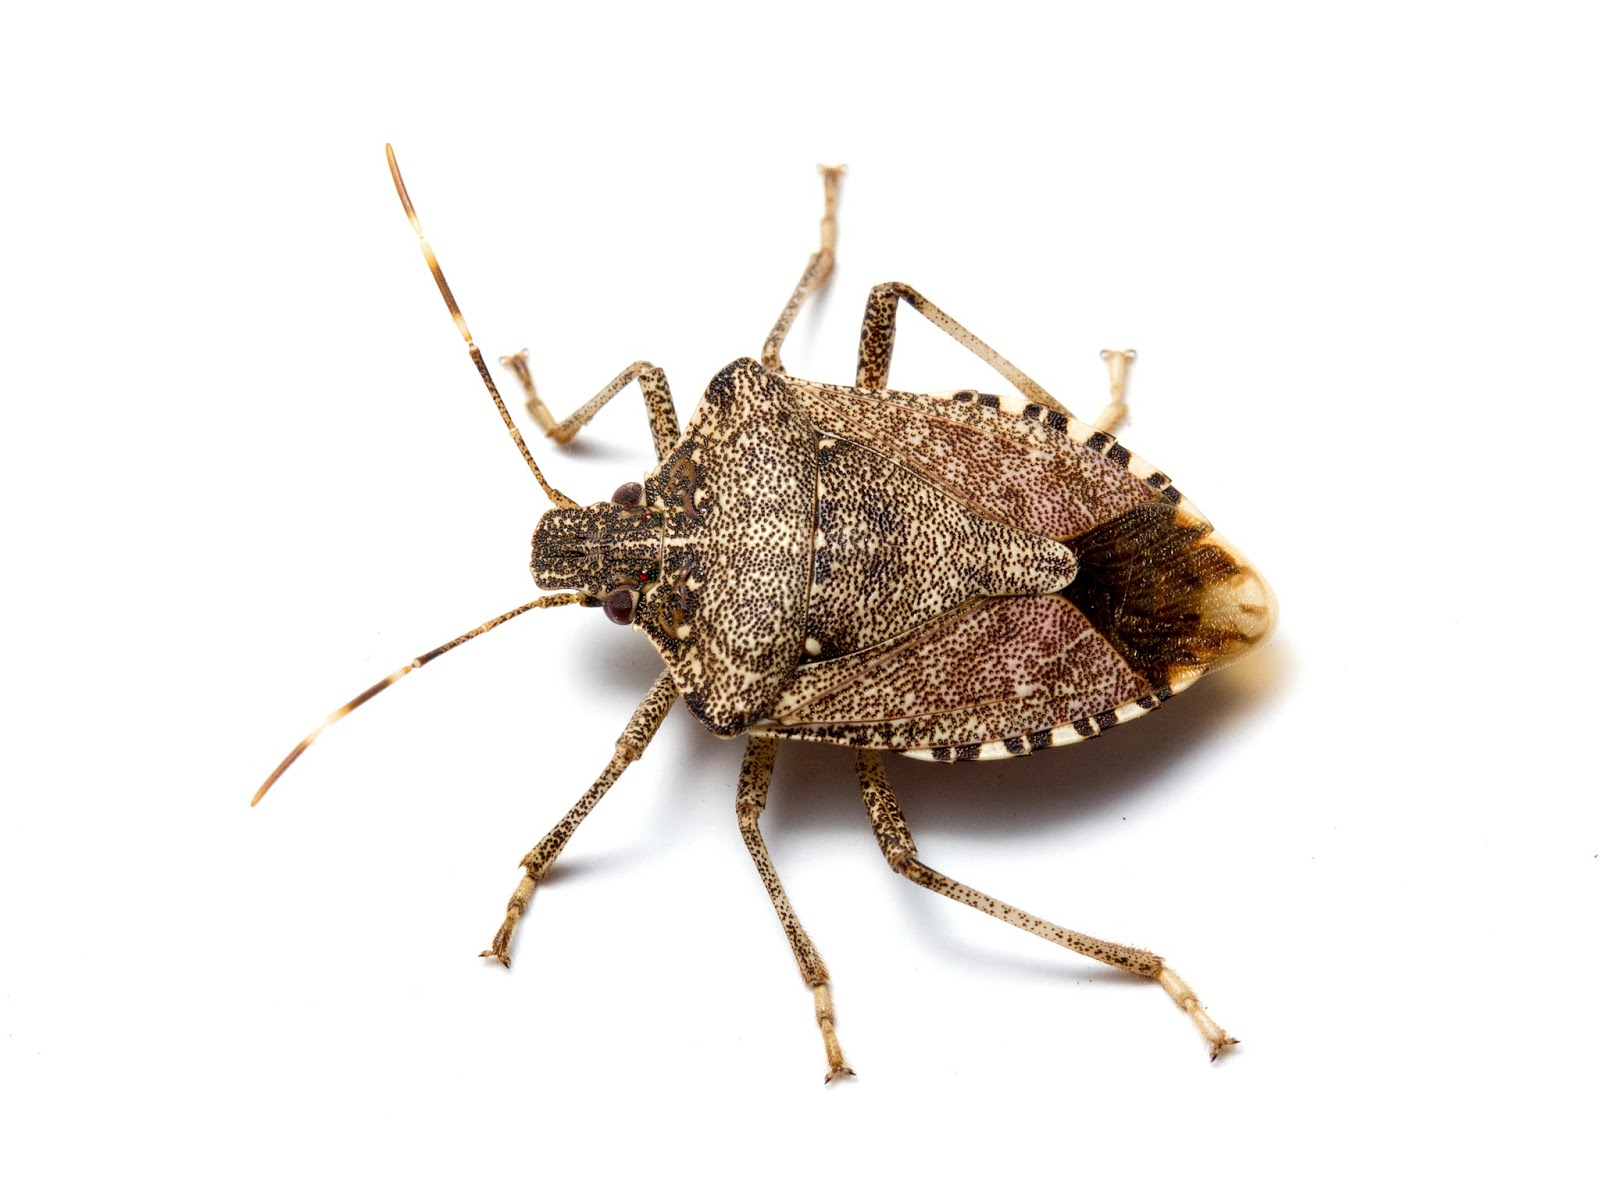Brown Marmorated Stink Bug: (236, 117, 1294, 1098)
